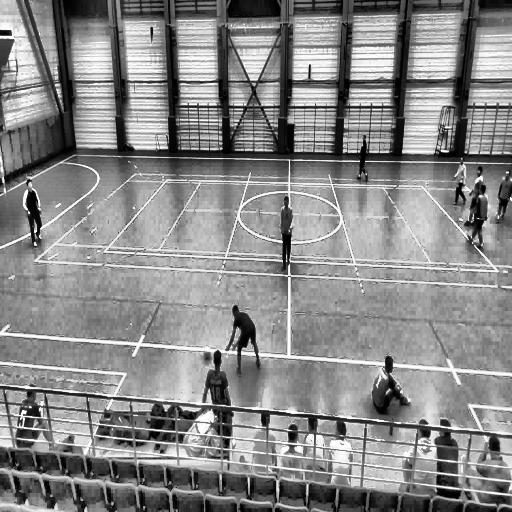ball: (202, 344, 212, 363)
player: (225, 302, 261, 376), (22, 179, 44, 248), (468, 183, 488, 250), (466, 162, 483, 226), (279, 194, 293, 271), (495, 168, 512, 224), (450, 156, 468, 208), (356, 136, 368, 182)
